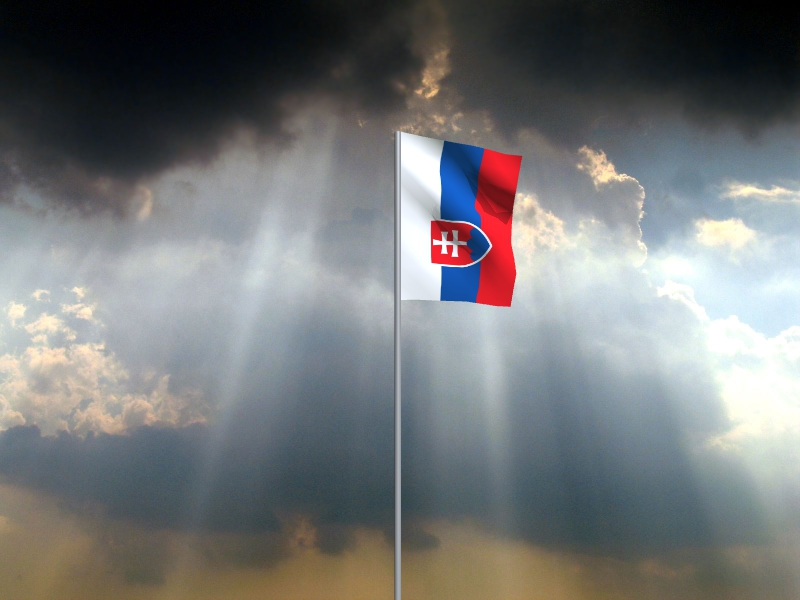sk: (401, 133, 524, 308)
